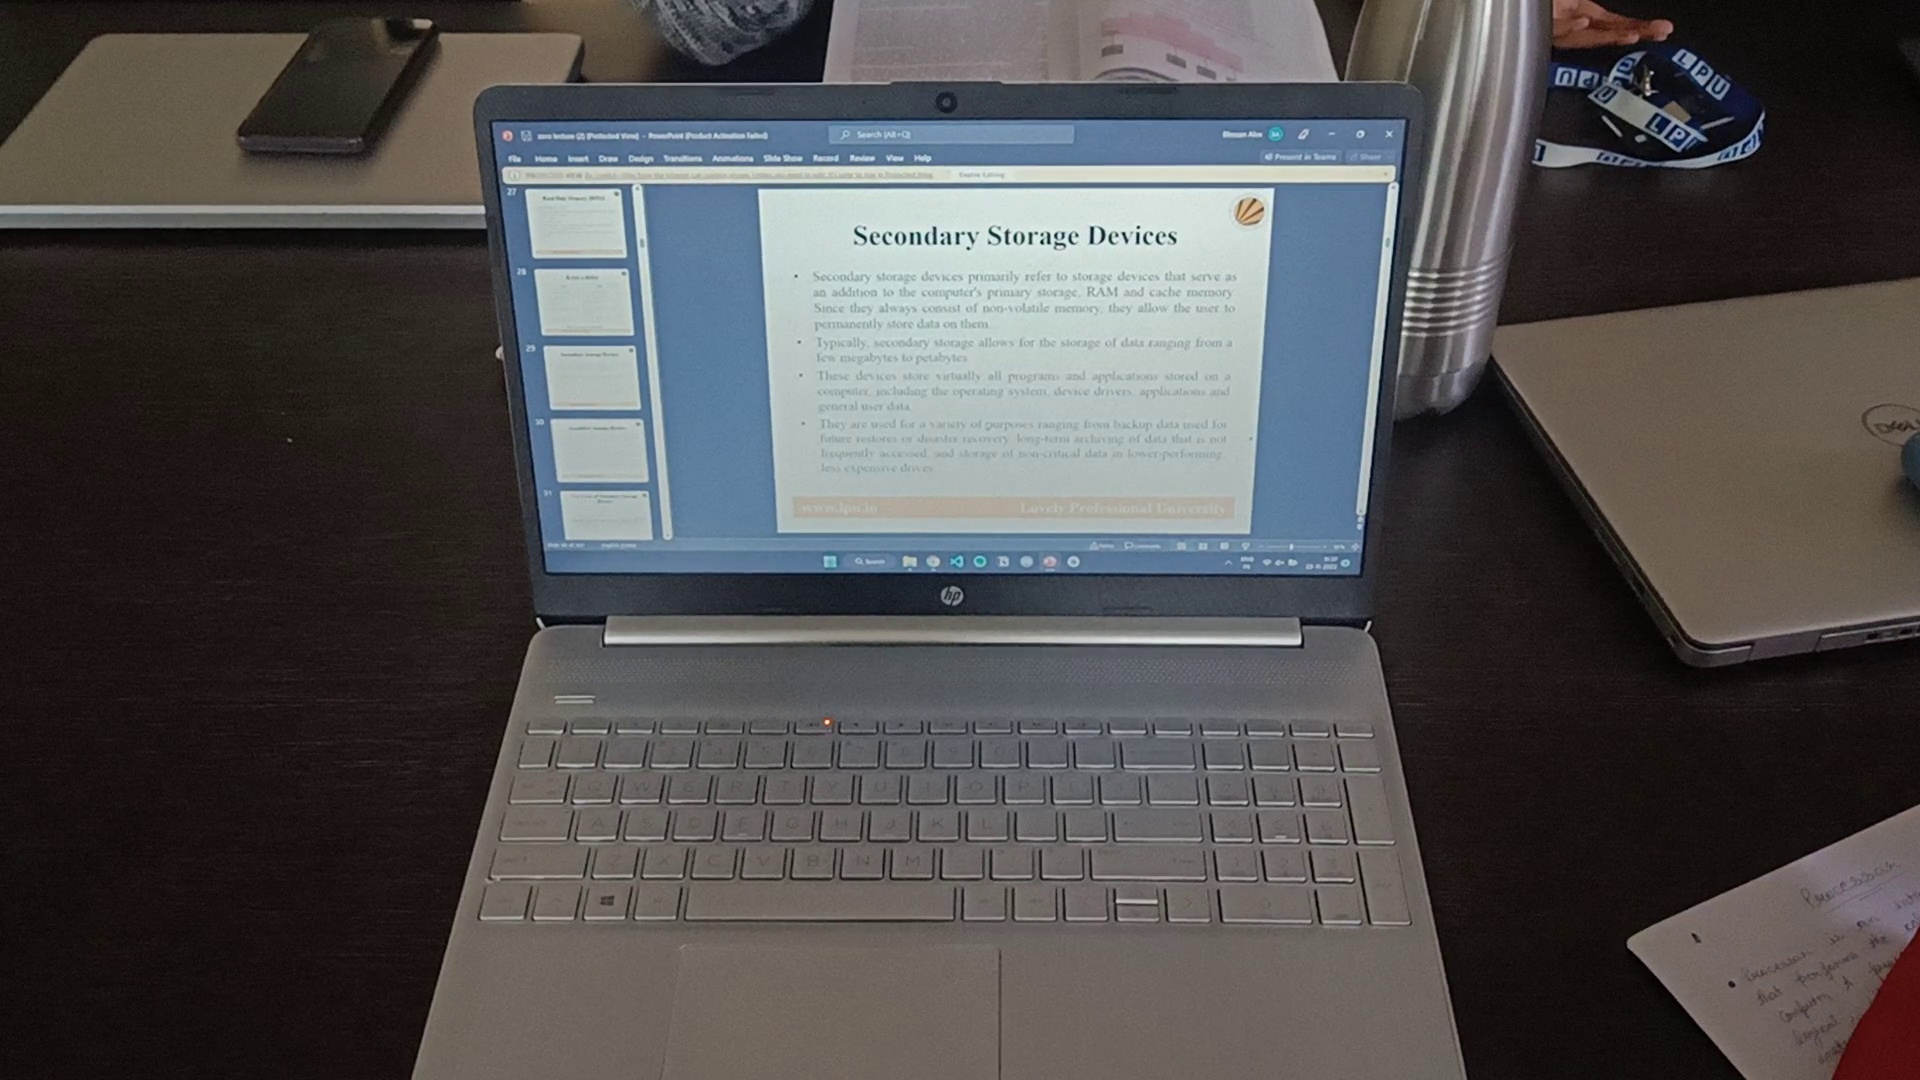laptop: (443, 123, 1514, 1080), (11, 15, 510, 236)
mobile: (227, 3, 443, 153)
